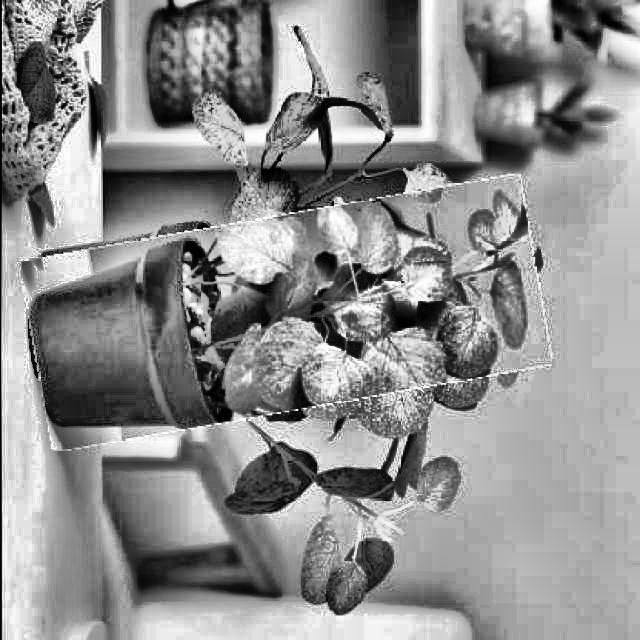plants: (24, 195, 544, 432)
